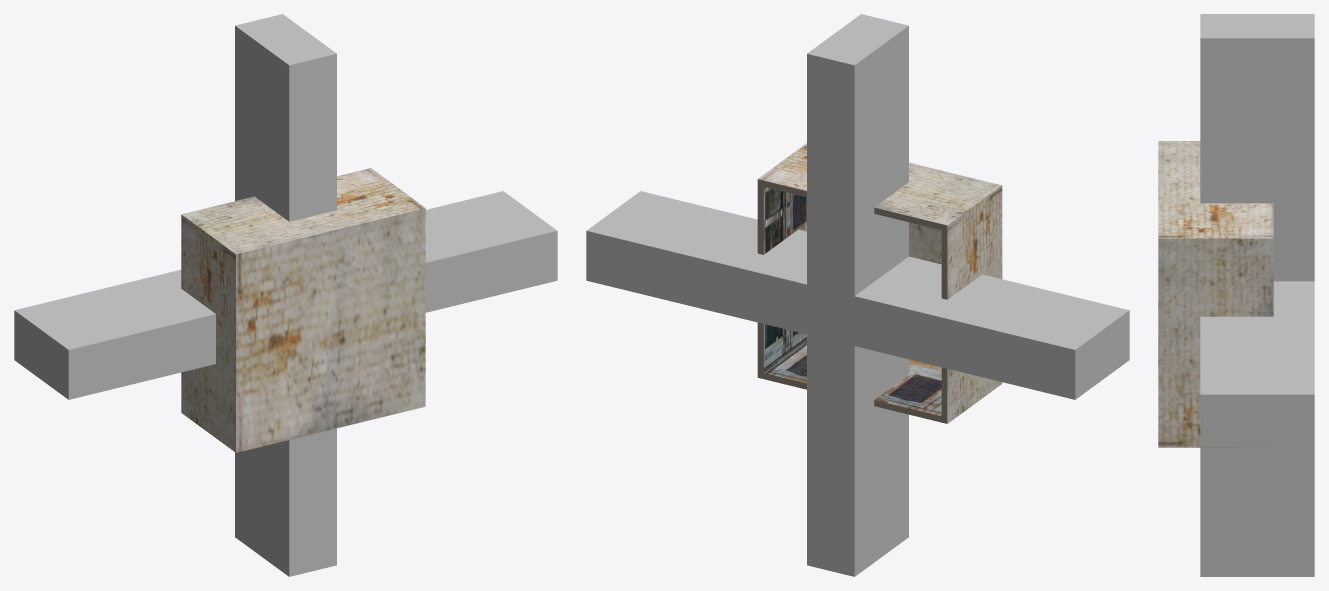
The model's file is 4x4basetemplate_wtf.obj.
3 renders of one model, left to right at view 1: azimuth 30°, elevation 25°; view 2: azimuth 150°, elevation 25°; view 3: azimuth 270°, elevation 25°, orthographic. The views are drawn at different scales.
Parts seen in each view (by area): view 1: group2, group4, group3; view 2: group3, group4, group2; view 3: group4, group2, group3.
Part boxes in pixels (x1,y1,x2,y2): group2: (181, 168, 425, 452); group4: (235, 14, 336, 576); group3: (14, 191, 557, 399); group3: (586, 191, 1129, 399); group4: (807, 14, 908, 576); group2: (757, 143, 1002, 423); group4: (1200, 14, 1314, 576); group2: (1158, 141, 1273, 447); group3: (1200, 281, 1314, 447).
Size of the model in its own units: 660 by 660 by 174.
